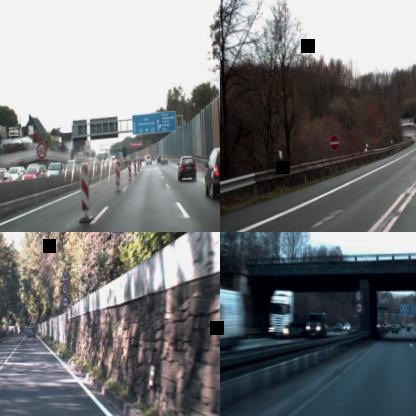NO ENTRY: (330, 134, 340, 150)
bend left: (58, 264, 70, 282)
no overtaking: (354, 302, 362, 314)
no overtaking (trucks): (61, 294, 68, 307)
speed limit 120: (354, 288, 362, 302)
speed limit 60: (36, 141, 46, 159)
speed limit 70: (61, 282, 68, 294)
